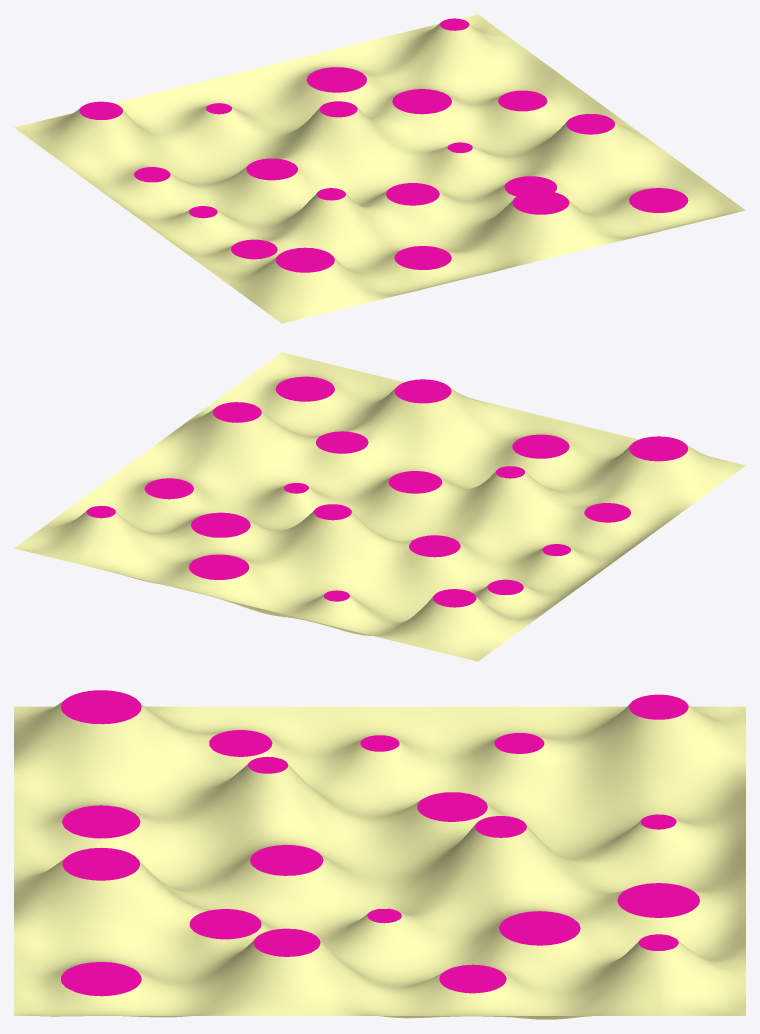
Rendered from Roof_02.fbx.
The picture shows the model from 3 angles, top to bottom: view 1: azimuth 30°, elevation 25°; view 2: azimuth 150°, elevation 25°; view 3: azimuth 270°, elevation 25°; orthographic projection. The views are drawn at different scales.
Parts seen in each view (by area): view 1: Roof_v2; view 2: Roof_v2; view 3: Roof_v2.
Part boxes in pixels (x1,y1,x2,y2): Roof_v2: [14, 14, 745, 323]; Roof_v2: [14, 352, 745, 661]; Roof_v2: [14, 690, 745, 1019].
Size of the model in its own units: 5 by 0.614 by 5.
